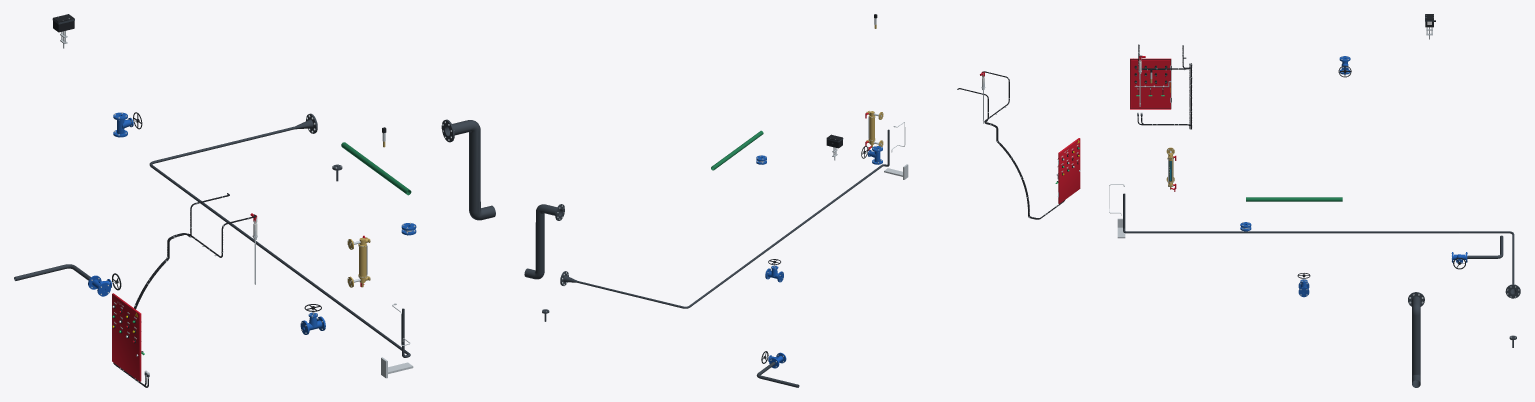
Rendered from s4000-7-BdyHu6yU.glb.
The picture shows the model from 3 angles, left to right: view 1: azimuth 30°, elevation 25°; view 2: azimuth 150°, elevation 25°; view 3: azimuth 270°, elevation 25°; orthographic projection. The views are drawn at different scales.
Visible parts, largest first — view 1: cabinet_door / cabinet_door_5.npz, bdv_water_drain / dark, tds_common / dark, tds_to_fv / dark, sight_glasses_2 / sight_glasses_2_0.npz, pump_delivery / green, wiring_lp200 / black, drain_isolation_2 / drain_isolation_2_0.npz; view 2: cabinet_door / cabinet_door_5.npz, bdv_water_drain / dark, tds_common / dark, tds_to_fv / dark; view 3: cabinet_door / cabinet_door_5.npz, tds_common / dark, bdv_water_drain / dark, tds_to_fv / dark, pump_delivery / green, wiring_lp200 / black.
Boxes of the visible parts, bbox=[...] form: cabinet_door / cabinet_door_5.npz: bbox=[112, 293, 141, 381]; bdv_water_drain / dark: bbox=[441, 119, 495, 220]; tds_common / dark: bbox=[183, 189, 410, 357]; tds_to_fv / dark: bbox=[149, 113, 317, 190]; sight_glasses_2 / sight_glasses_2_0.npz: bbox=[347, 235, 370, 287]; pump_delivery / green: bbox=[341, 142, 411, 195]; wiring_lp200 / black: bbox=[116, 214, 256, 387]; drain_isolation_2 / drain_isolation_2_0.npz: bbox=[88, 273, 121, 296]; cabinet_door / cabinet_door_5.npz: bbox=[1057, 138, 1080, 203]; bdv_water_drain / dark: bbox=[524, 204, 564, 279]; tds_common / dark: bbox=[714, 129, 889, 288]; tds_to_fv / dark: bbox=[560, 271, 715, 308]; cabinet_door / cabinet_door_5.npz: bbox=[1130, 58, 1171, 109]; tds_common / dark: bbox=[1123, 193, 1458, 233]; bdv_water_drain / dark: bbox=[1408, 292, 1424, 387]; tds_to_fv / dark: bbox=[1459, 231, 1520, 298]; pump_delivery / green: bbox=[1246, 197, 1342, 201]; wiring_lp200 / black: bbox=[1137, 44, 1190, 129].
Bounding box in the file's own units: 6.07 × 3.22 × 5.31.
